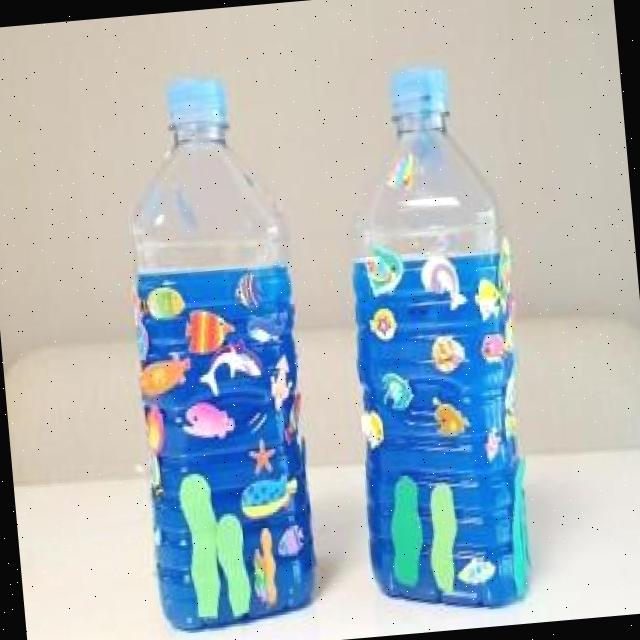bottle: (95, 48, 333, 640), (316, 52, 550, 636)
cap: (160, 72, 240, 132), (386, 64, 456, 130)
